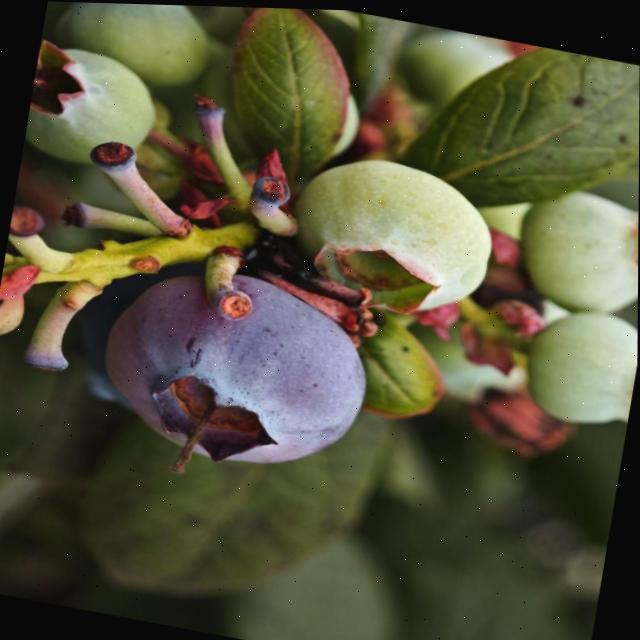Semi-RipeBlueBerry: (92, 257, 376, 483)
UnripeBlueBerry: (287, 146, 504, 320)
